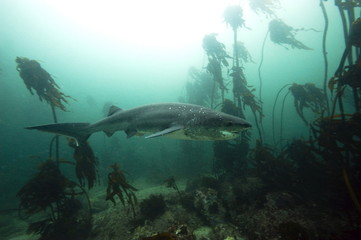Sevengill Shark: (15, 95, 265, 158)
